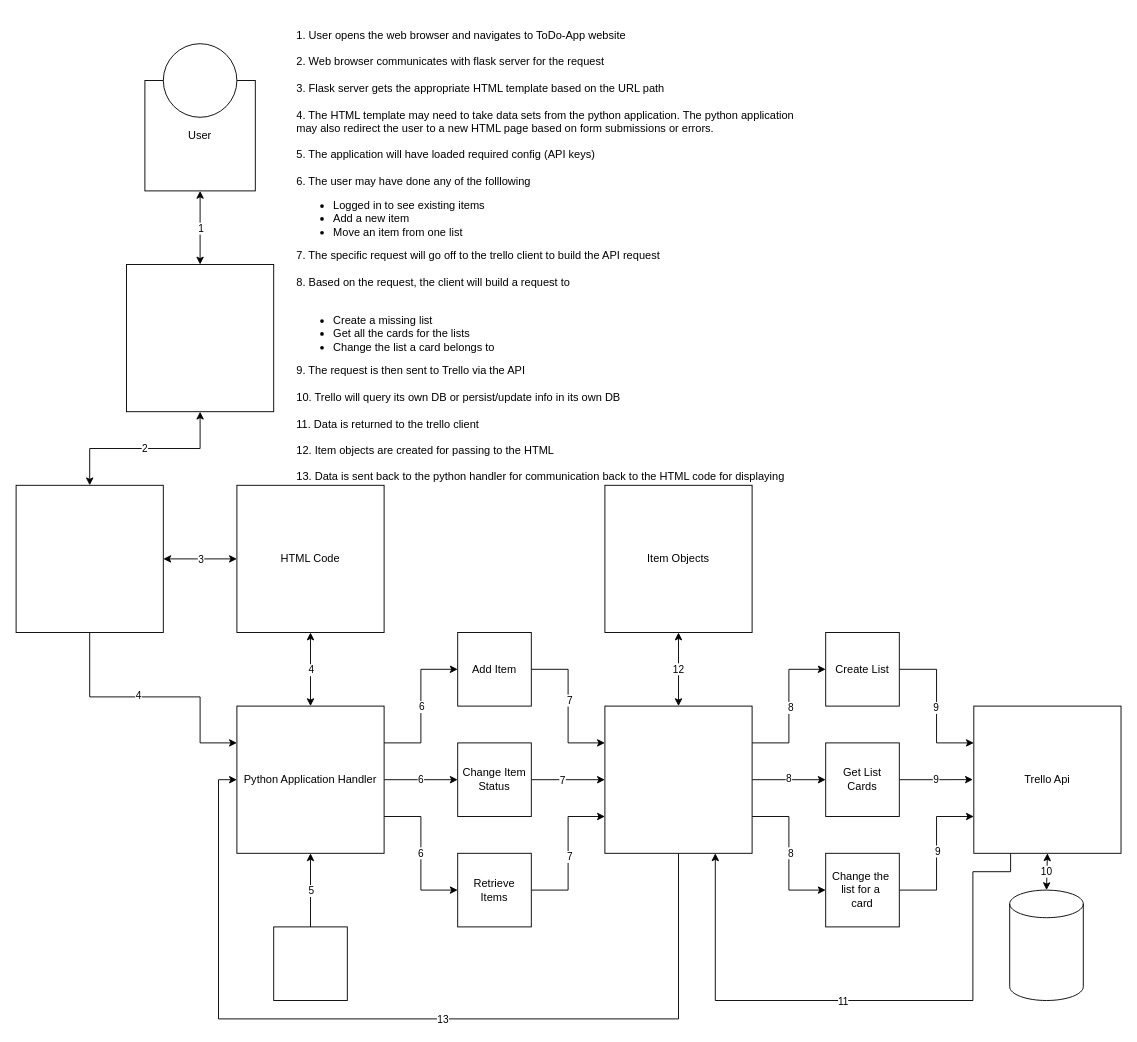
The diagram is 1137 pixels wide and 1042 high, and some of its shapes have lost their labels. Here are the shapes that lost their labels. From the top down, the centre of each, then its label:
point (200, 338): Web Browser
point (89, 558): Flask Server
point (678, 779): Trello Client Handler
point (310, 963): config
point (1046, 944): Trello Database
